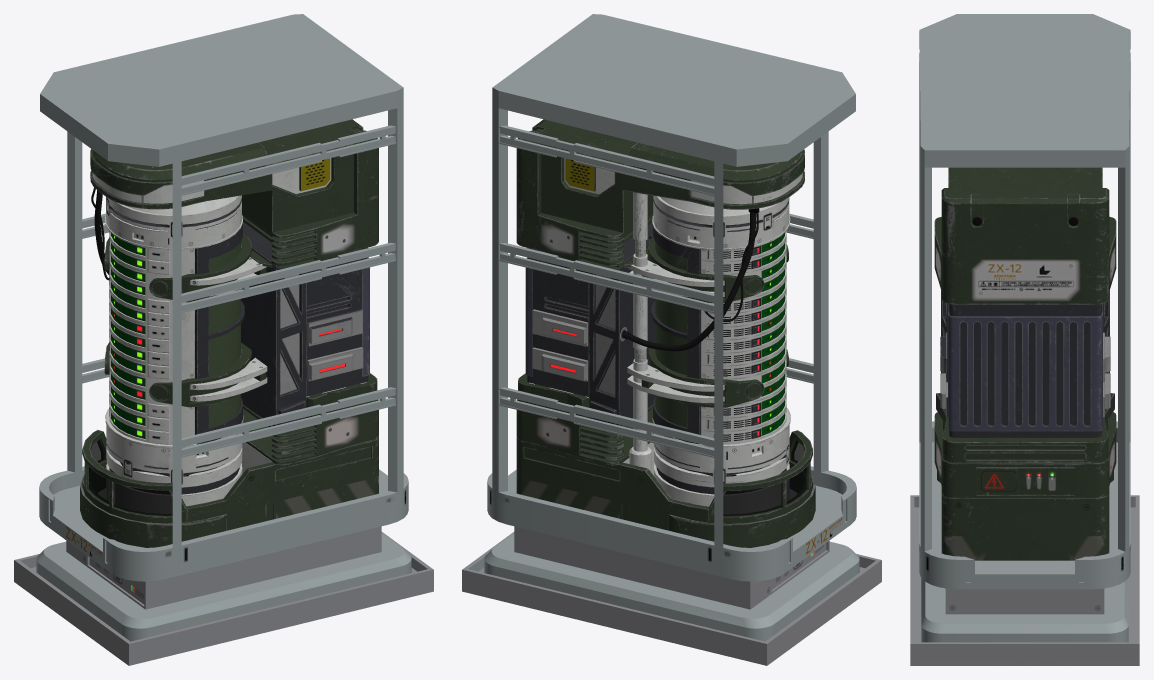
File: server_rack.glb
The picture shows the model from 3 angles, left to right: view 1: azimuth 30°, elevation 25°; view 2: azimuth 150°, elevation 25°; view 3: azimuth 270°, elevation 25°; orthographic projection.
Parts seen in each view (by area): view 1: Cube, Cube.001, Cube.004, Cube.002, Cube.008, Cube.011, Cube.012; view 2: Cube, Cube.001, Cube.004, Cube.002, Cube.008, Cube.011, Cube.012; view 3: Cube, Cube.001, Cube.002.
Boxes of the visible parts, x1,y1,x2,y2 form: Cube: (14,14,433,665); Cube.001: (82,119,378,530); Cube.004: (109,223,244,444); Cube.002: (241,222,369,426); Cube.008: (105,195,243,513); Cube.011: (91,187,267,407); Cube.012: (89,440,172,515); Cube: (462,14,881,665); Cube.001: (516,119,812,530); Cube.004: (651,226,786,444); Cube.002: (525,222,655,426); Cube.008: (652,195,790,513); Cube.011: (622,192,788,472); Cube.012: (723,440,806,516); Cube: (910,14,1139,665); Cube.001: (934,167,1116,560); Cube.002: (936,290,1114,437).
Size of the model in its own units: 1.27 by 2 by 0.8248.
Materials: 7 (7 with a texture image).
